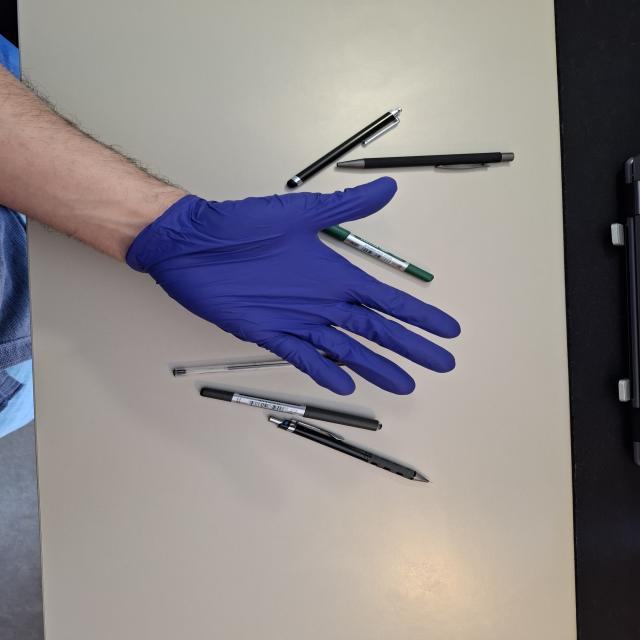glove_on: (123, 174, 465, 398)
